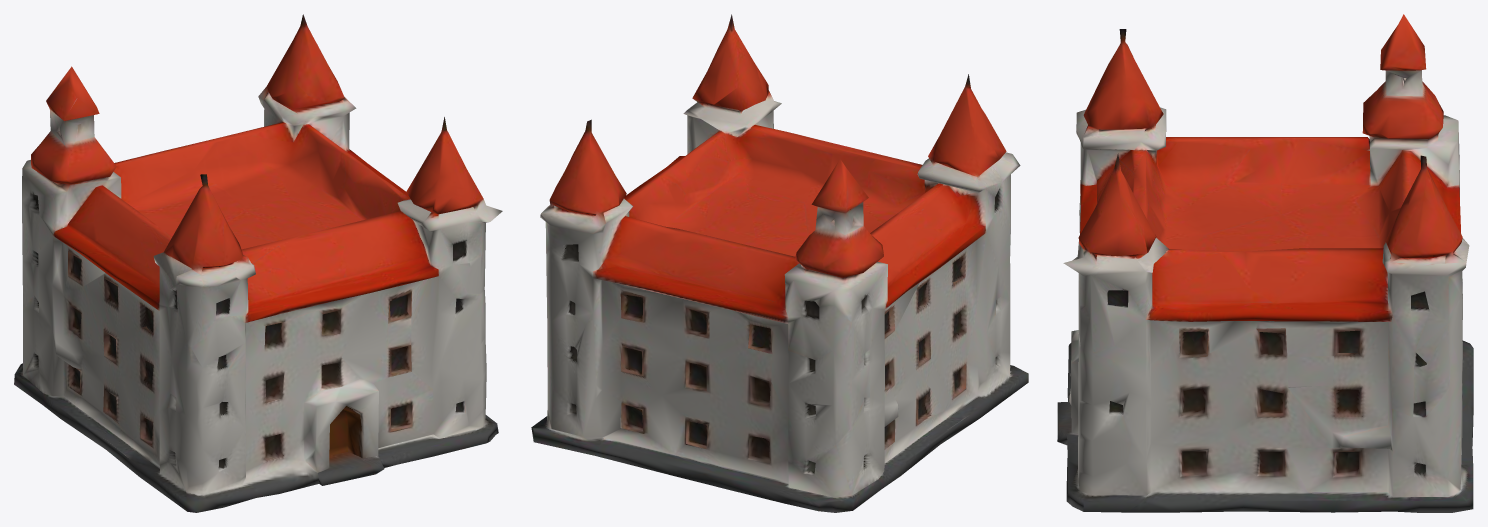
File: bratislava-castle.glb
The picture shows the model from 3 angles, left to right: view 1: azimuth 30°, elevation 25°; view 2: azimuth 150°, elevation 25°; view 3: azimuth 270°, elevation 25°; orthographic projection. The views are drawn at different scales.
Visible parts, largest first — view 1: tripo_node_3686d8ba-e729-4033-aa26-af008d646113; view 2: tripo_node_3686d8ba-e729-4033-aa26-af008d646113; view 3: tripo_node_3686d8ba-e729-4033-aa26-af008d646113.
Boxes of the visible parts, <box> form: tripo_node_3686d8ba-e729-4033-aa26-af008d646113: <box>14,14,502,512</box>; tripo_node_3686d8ba-e729-4033-aa26-af008d646113: <box>531,14,1028,512</box>; tripo_node_3686d8ba-e729-4033-aa26-af008d646113: <box>1057,14,1473,512</box>.
Bounding box in the file's own units: 0.9543 × 0.9367 × 1.
Materials: 1 (1 with a texture image).
